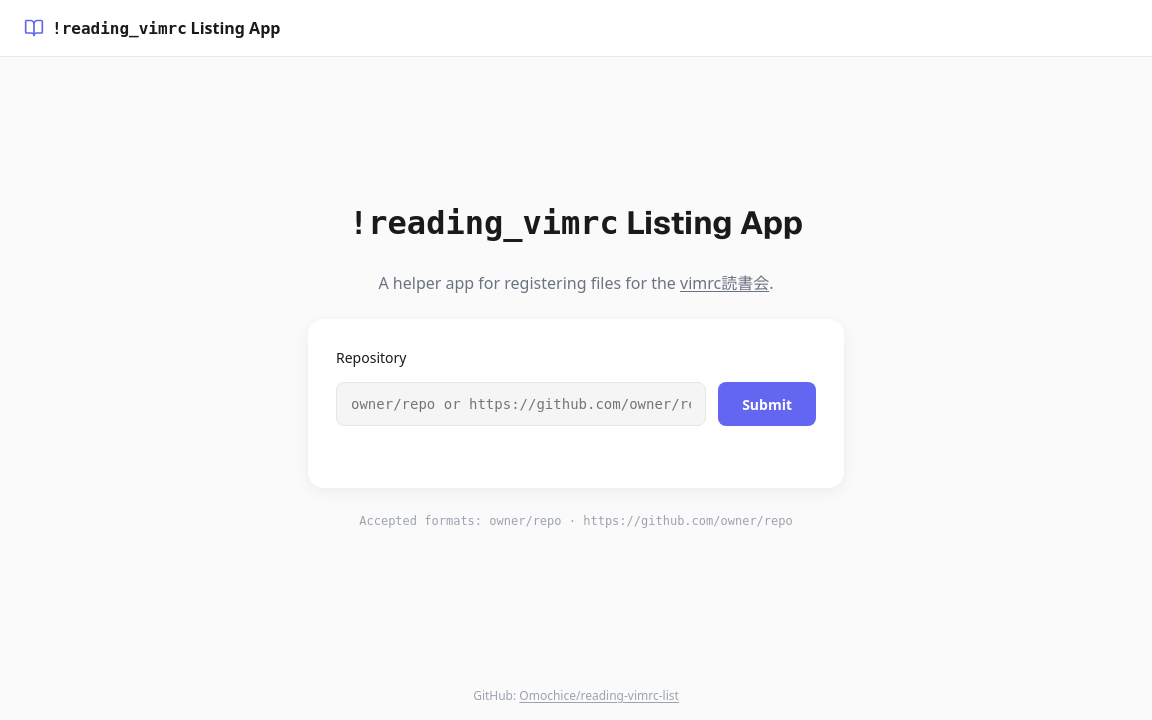
integration smoke tests › error screen renders error card with actions
Type "vim/vim" into the field. click: (521, 404)
box: [336,382,706,426]
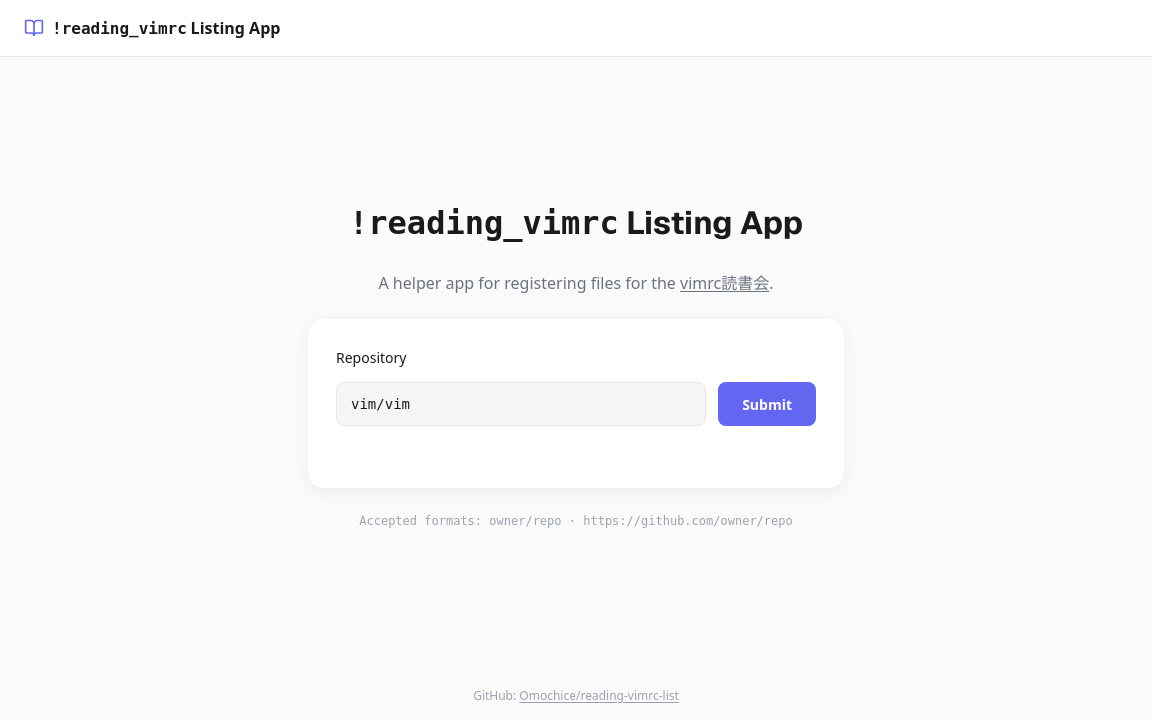
Submit the form, box [336,382,816,426]
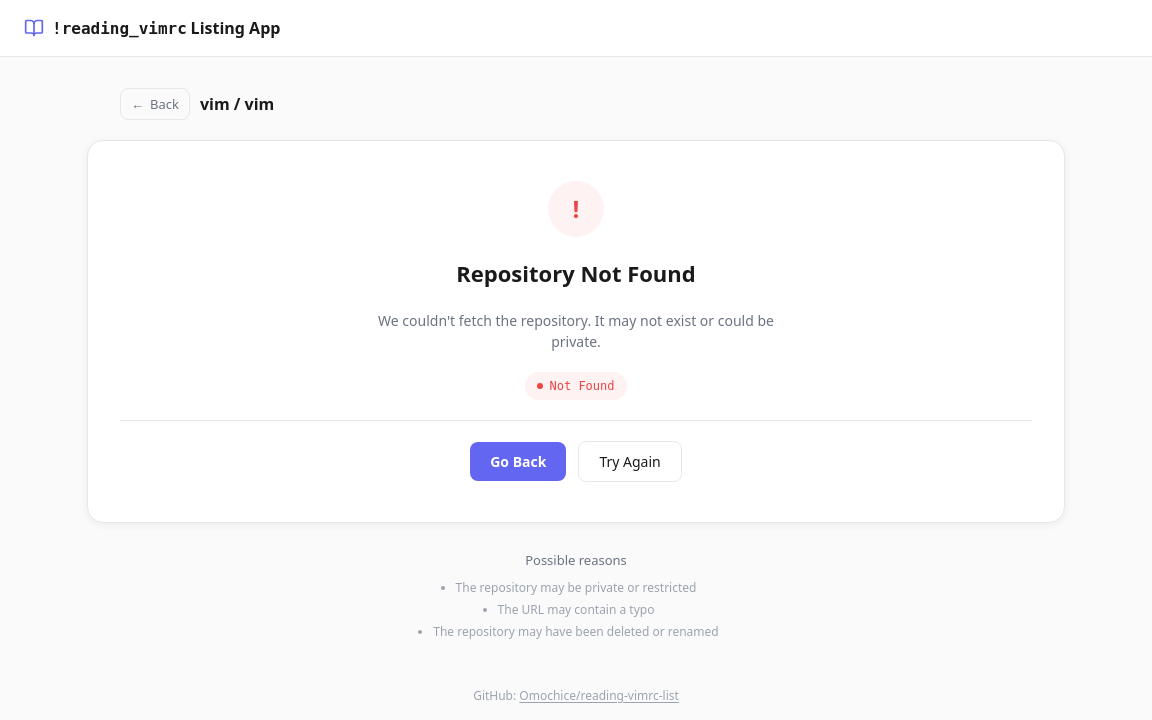
Result: the heading "Repository Not Found" is shown at [456,257,696,290]
Result: the text "couldn't fetch" is shown at [378,311,774,351]
Result: the button "Go Back" is shown at [470,442,566,481]
